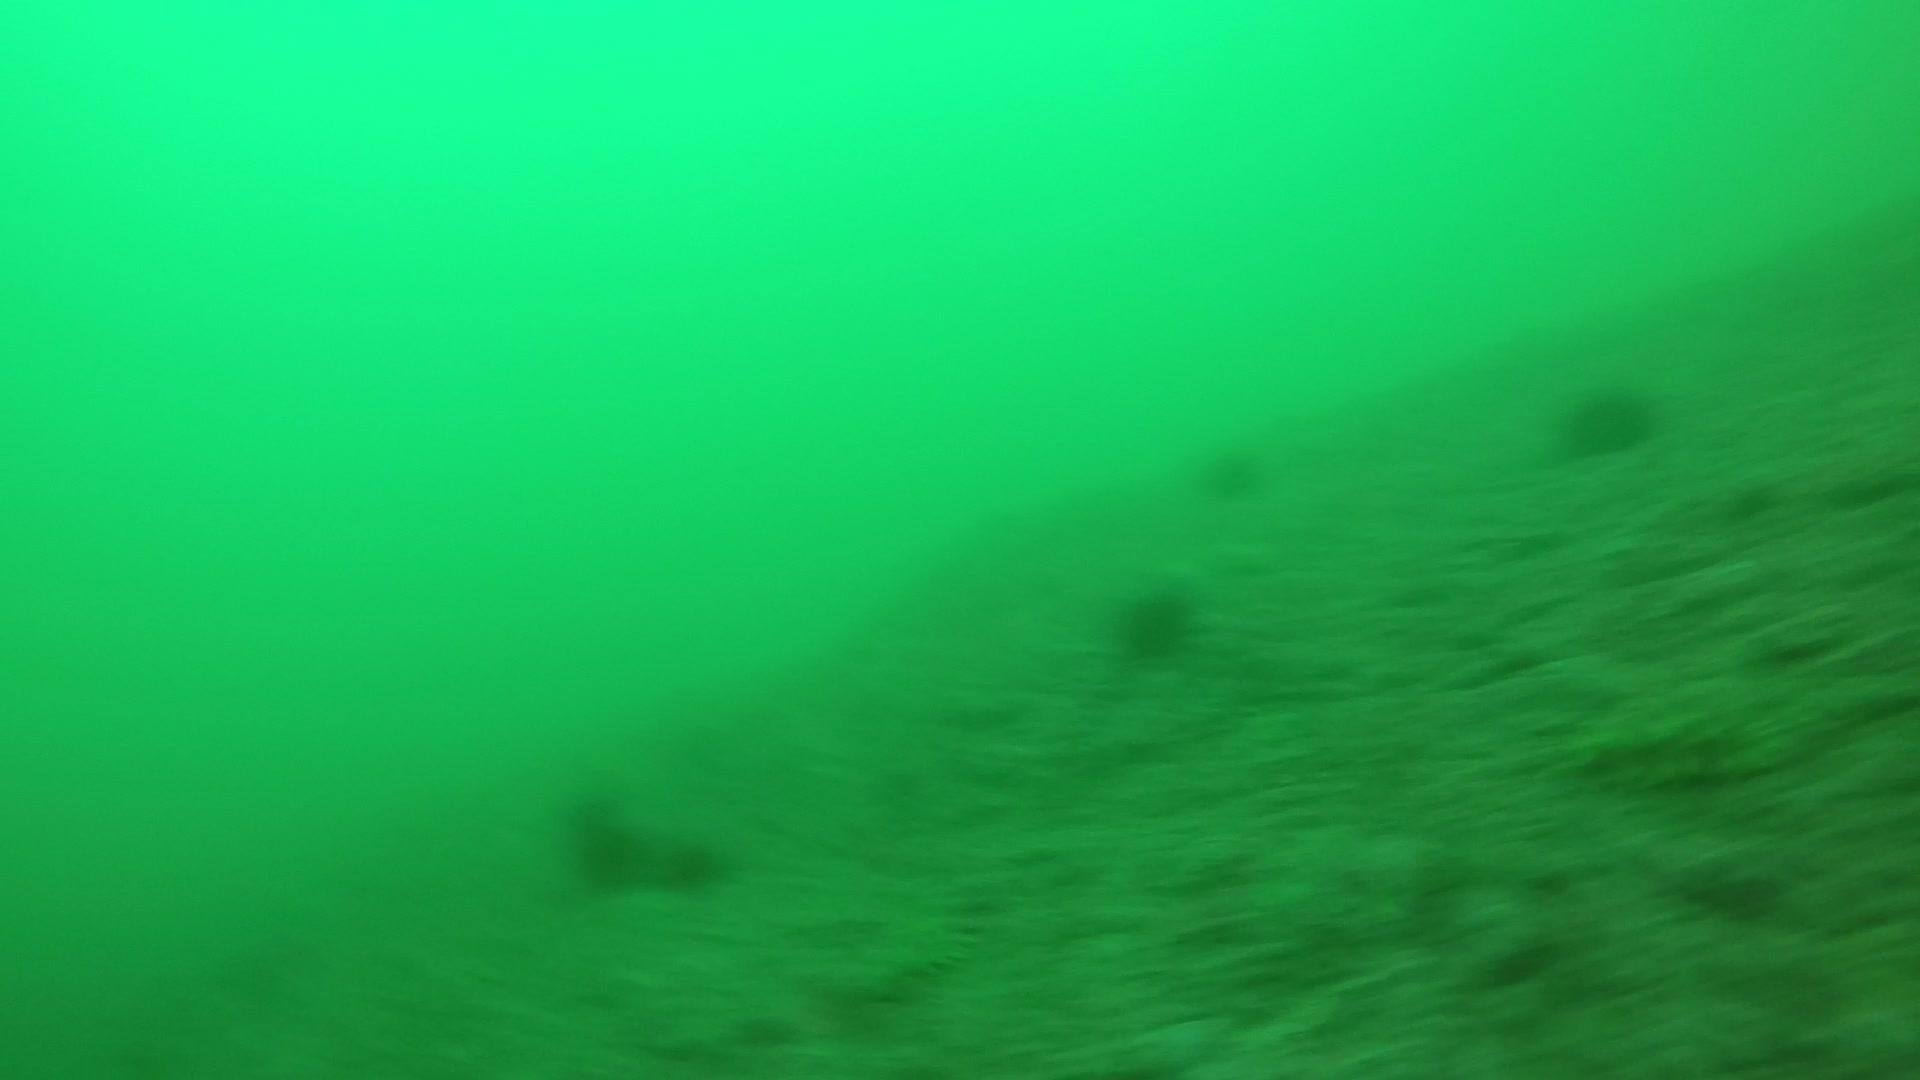echinus: (1551, 376, 1662, 463), (1106, 578, 1203, 665), (564, 811, 649, 898), (1193, 434, 1273, 502), (651, 828, 731, 895)
holothurian: (799, 866, 978, 1014)
